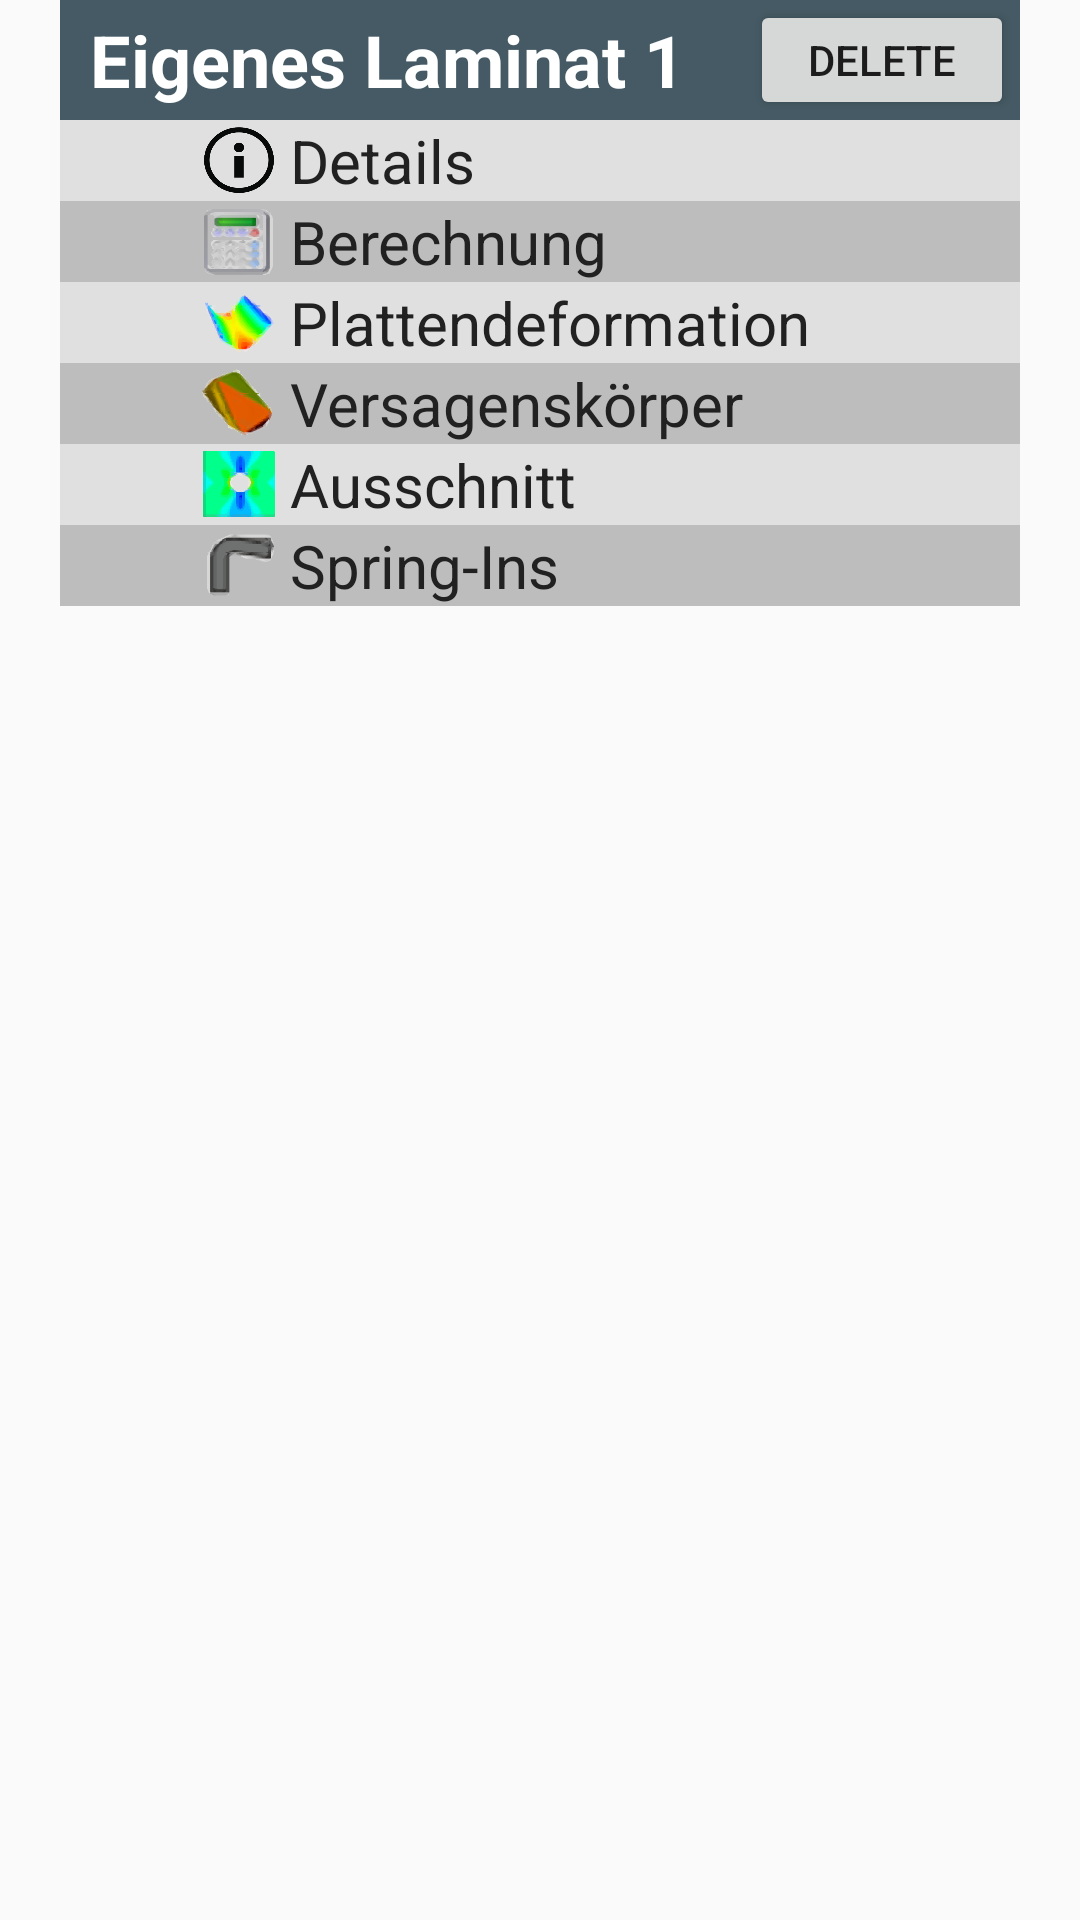

Where to tap for icons on this 1080 x 1920 app screen, as (x,y):
info: (239,160)
versagenskoerper: (237,402)
